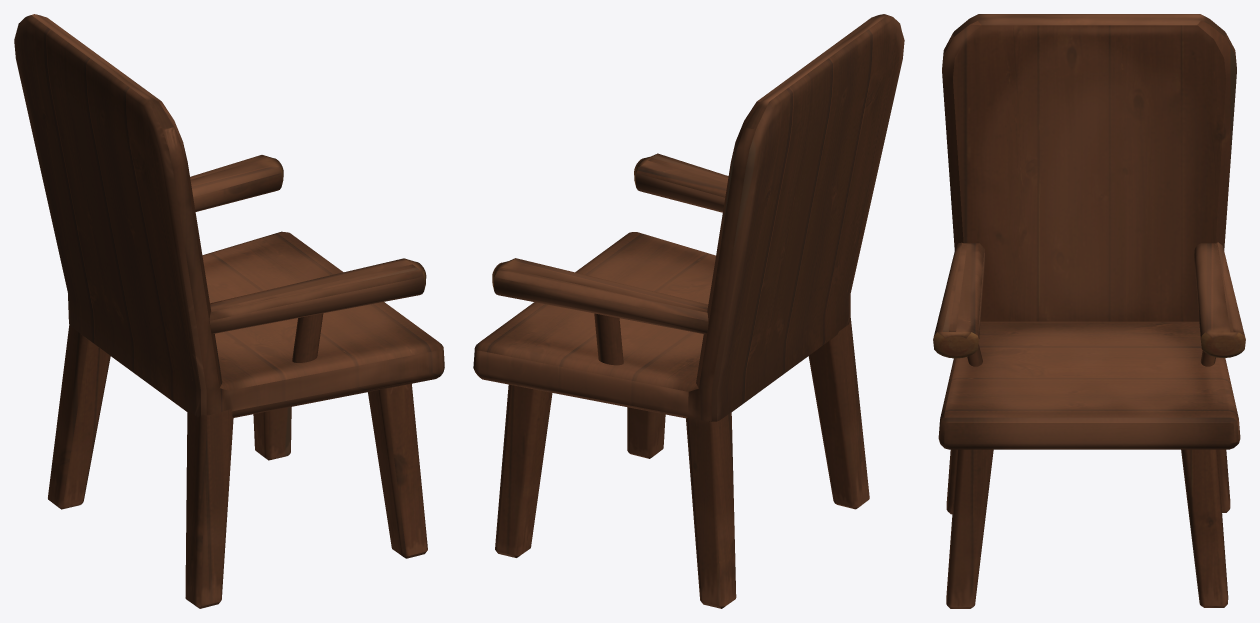
The model's file is Chair.fbx.
3 renders of one model, left to right at view 1: azimuth 30°, elevation 25°; view 2: azimuth 150°, elevation 25°; view 3: azimuth 270°, elevation 25°, orthographic. The views are drawn at different scales.
Parts seen in each view (by area): view 1: pCylinder61; view 2: pCylinder61; view 3: pCylinder61.
Part boxes in pixels (bbox=[...]): pCylinder61: bbox=[14, 14, 444, 608]; pCylinder61: bbox=[473, 14, 904, 608]; pCylinder61: bbox=[933, 14, 1245, 608].
Bounding box in the file's own units: 0.488 × 0.833 × 0.4968.
